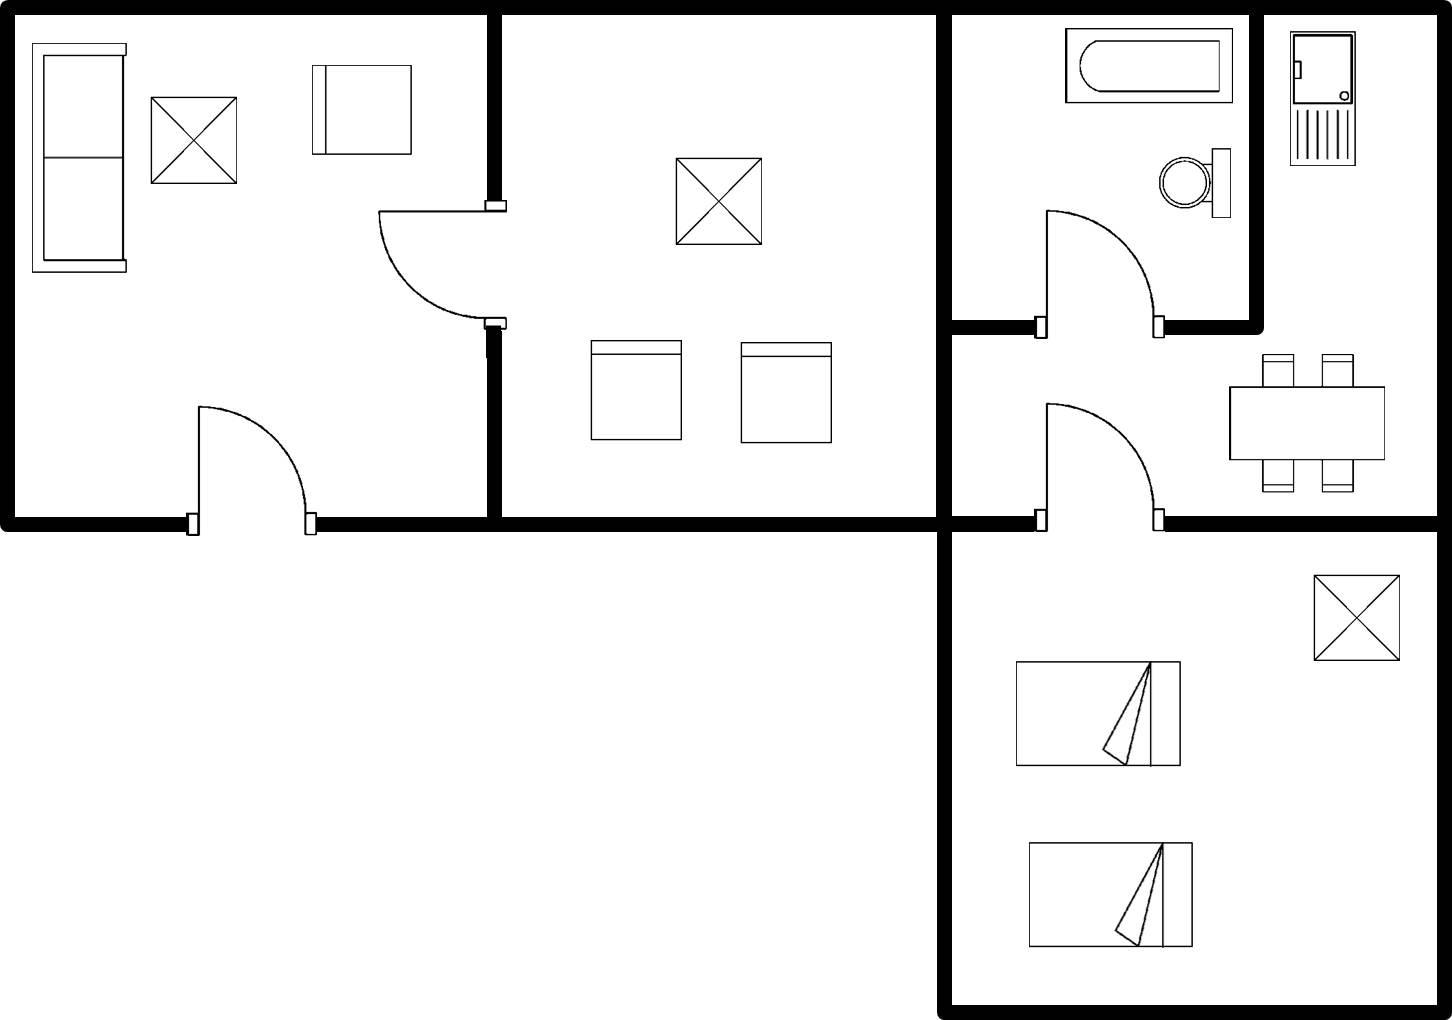bed: (1005, 651, 1191, 773), (1021, 832, 1205, 954)
dining_table: (1218, 346, 1390, 501)
sink: (1282, 25, 1359, 176)
sofa: (24, 35, 135, 280)
toilet: (1152, 139, 1236, 225)
tub: (1056, 21, 1238, 111)
